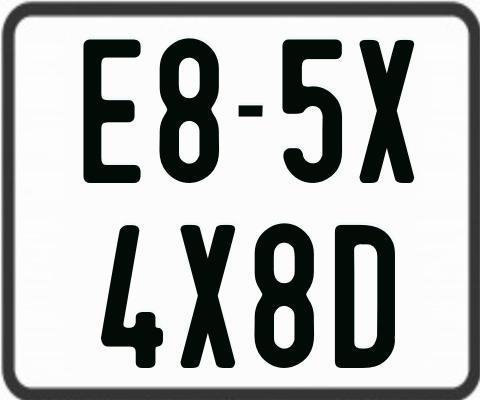4: (101, 222, 163, 367)
5: (280, 39, 343, 185)
8: (157, 35, 221, 185), (253, 222, 314, 372)
D: (335, 224, 396, 370)
E: (83, 39, 142, 183)
X: (180, 222, 240, 369), (359, 40, 415, 189)
